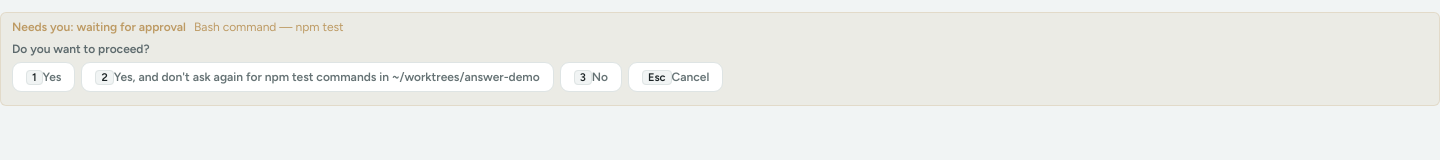
ApprovalCallout › a click › re-enables the buttons after a refusal, since nothing was sent
The width and height of the screenshot is (1440, 160).
Click the button with test id "card-approval-option" showing "1Yes" at (44, 77), box [12, 62, 76, 92]
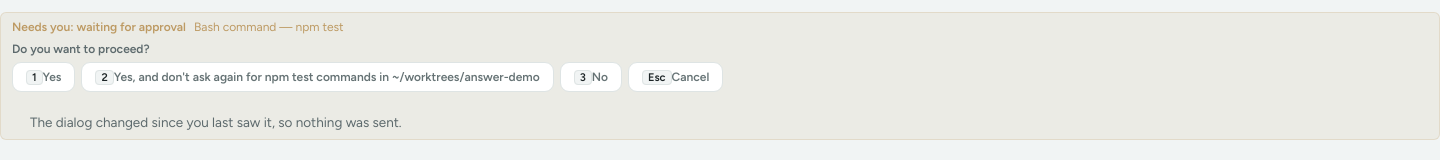
expect the text with test id "card-approval-result" is shown: met, box [30, 114, 402, 130]
